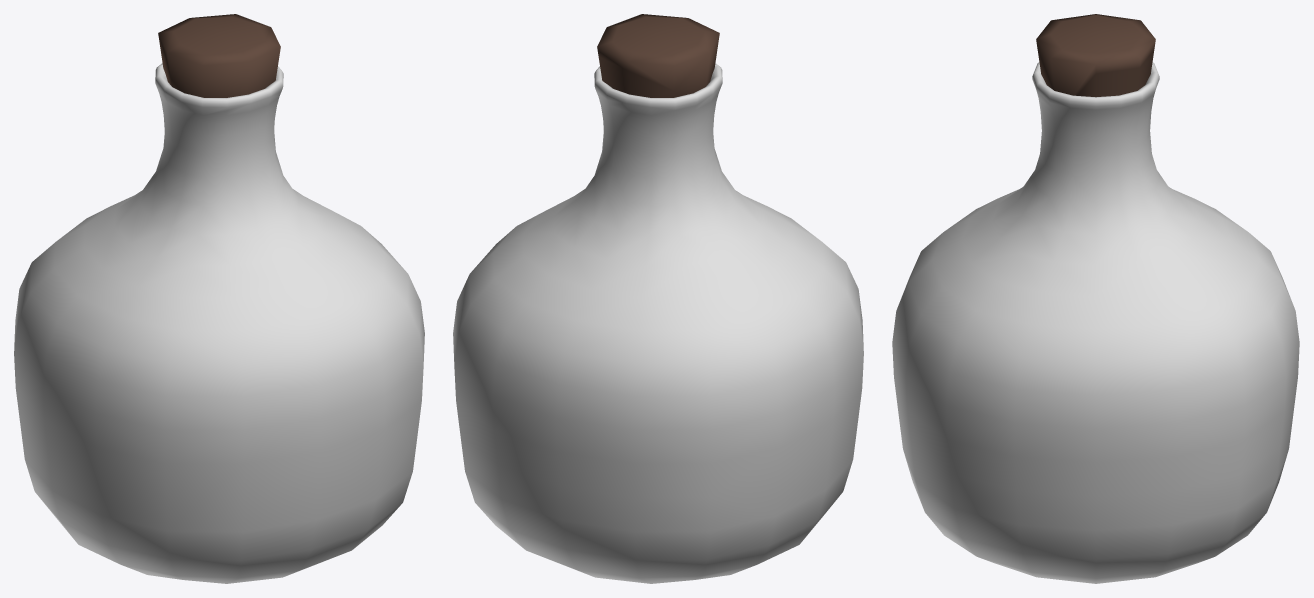
Rendered from quaternius-rpg-items-potion-2-empty.glb.
3 renders of one model, left to right at view 1: azimuth 30°, elevation 25°; view 2: azimuth 150°, elevation 25°; view 3: azimuth 270°, elevation 25°, orthographic.
Visible parts, largest first — view 1: Potion2_Empty; view 2: Potion2_Empty; view 3: Potion2_Empty.
Part boxes in pixels (<box>): Potion2_Empty: <box>14,14,424,583</box>; Potion2_Empty: <box>453,14,863,583</box>; Potion2_Empty: <box>892,14,1299,583</box>.
Bounding box in the file's own units: 0.8768 × 1.22 × 0.8768.
